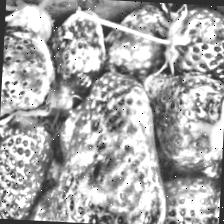Powdery Mildew Fruit: (47, 67, 173, 224), (40, 7, 106, 112), (0, 23, 57, 124), (100, 1, 174, 78)
